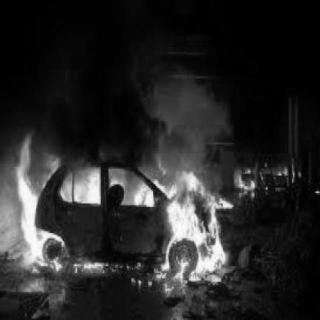Fire: (10, 127, 231, 293)
